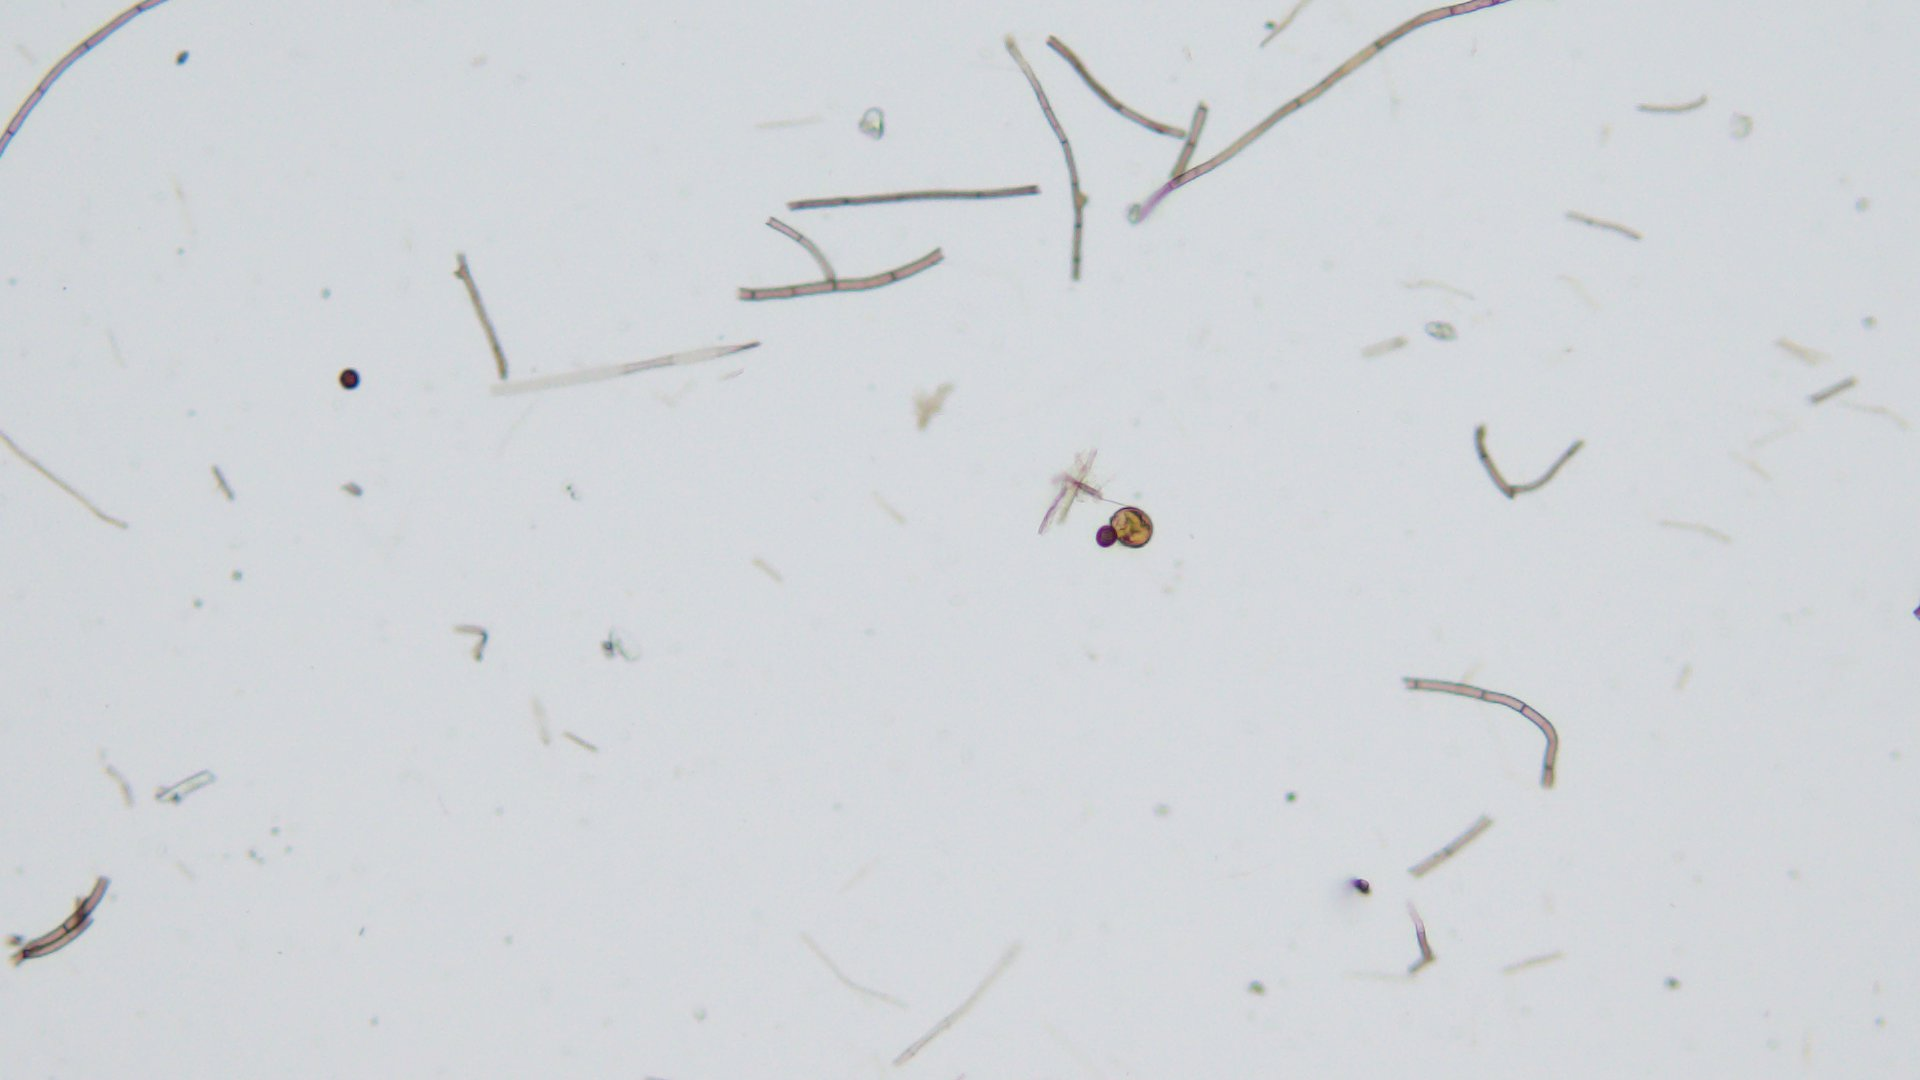shs_spore: (339, 369, 360, 392), (1095, 526, 1117, 547)
xb_spore: (1109, 506, 1153, 549)
